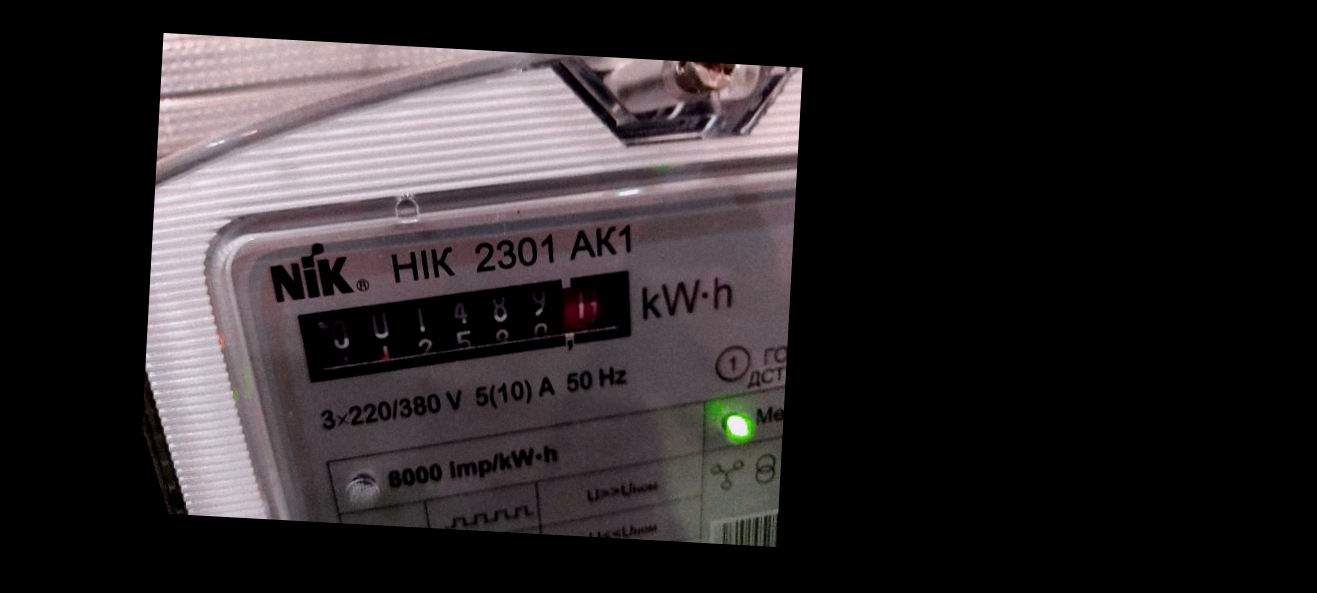0: (366, 303, 394, 340), (327, 315, 353, 351)
1: (570, 282, 591, 321), (410, 301, 432, 333)
4: (449, 294, 472, 326)
8: (489, 288, 512, 325)
9: (528, 284, 550, 317)
screen: (282, 241, 664, 412)
